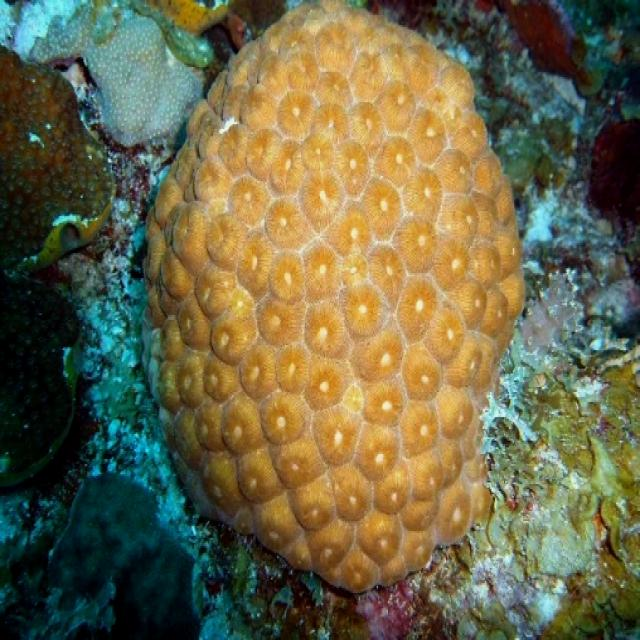Coral: (144, 0, 532, 596), (0, 51, 115, 494), (28, 0, 203, 147), (50, 471, 195, 640)
